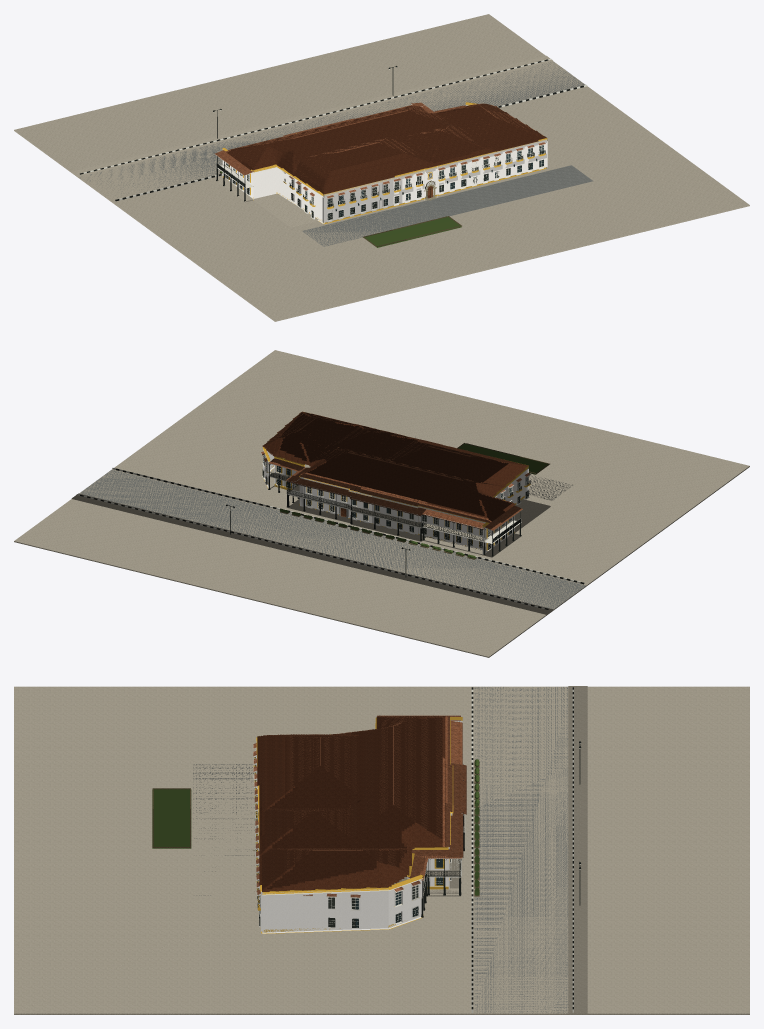
Rendered from Adil-Shah-Palace-Panaji.glb.
3 views of the same model, one above another, from view 1: azimuth 30°, elevation 25°; view 2: azimuth 150°, elevation 25°; view 3: azimuth 270°, elevation 25° (orthographic). The views are drawn at different scales.
Visible parts, largest first — view 1: Grounds — simplified context / Verandah stone paving, Main hipped roof — photo estimated ridges / Dark tiled eaves, Grounds — simplified context / Street context, City façade — nineteen balconies / Limewashed plaster, Mapped building shell / Limewashed plaster, Main hipped roof — photo estimated ridges / Weathered terrac, Grounds — simplified context / Context planting, City façade — nineteen balconies / Ochre painted surrounds, City façade — nineteen balconies / Ivory window joinery, Mapped building shell / Verandah stone paving, City façade — nineteen balconies / Historic dark cast iron, Grounds — simplified context / Dark curb paint (+3 smaller); view 2: Grounds — simplified context / Verandah stone paving, Grounds — simplified context / Street context, Main hipped roof — photo estimated ridges / Dark tiled eaves, Main hipped roof — photo estimated ridges / Weathered terrac, River verandah walls / Limewashed plaster, River verandah structure / Verandah stone paving, Verandah tiled roof / Weathered terracotta tiles, River verandah structure / Historic dark cast iron, Grounds — simplified context / Context planting, Grounds — simplified context / Dark curb paint, Grounds — simplified context / White curb paint, Mapped building shell / Limewashed plaster (+4 smaller); view 3: Grounds — simplified context / Verandah stone paving, Main hipped roof — photo estimated ridges / Dark tiled eaves, Grounds — simplified context / Street context, Mapped building shell / Limewashed plaster, Main hipped roof — photo estimated ridges / Weathered terrac, Grounds — simplified context / Context planting, Verandah tiled roof / Weathered terracotta tiles, Mapped building shell / Ochre painted surrounds, Grounds — simplified context / White curb paint, Grounds — simplified context / Dark curb paint.
Part boxes in pixels (left/top/right/bottom): Grounds — simplified context / Verandah stone paving: left=14, top=14, right=749, bottom=321; Main hipped roof — photo estimated ridges / Dark tiled eaves: left=226, top=104, right=546, bottom=194; Grounds — simplified context / Street context: left=80, top=62, right=593, bottom=246; City façade — nineteen balconies / Limewashed plaster: left=322, top=139, right=547, bottom=222; Mapped building shell / Limewashed plaster: left=222, top=104, right=547, bottom=223; Main hipped roof — photo estimated ridges / Weathered terrac: left=226, top=103, right=544, bottom=160; Grounds — simplified context / Context planting: left=220, top=171, right=461, bottom=247; City façade — nineteen balconies / Ochre painted surrounds: left=323, top=138, right=547, bottom=224; City façade — nineteen balconies / Ivory window joinery: left=327, top=144, right=545, bottom=220; Mapped building shell / Verandah stone paving: left=228, top=173, right=427, bottom=227; City façade — nineteen balconies / Historic dark cast iron: left=327, top=150, right=545, bottom=219; Grounds — simplified context / Dark curb paint: left=80, top=59, right=583, bottom=201; Grounds — simplified context / Verandah stone paving: left=14, top=350, right=749, bottom=657; Grounds — simplified context / Street context: left=79, top=470, right=585, bottom=609; Main hipped roof — photo estimated ridges / Dark tiled eaves: left=262, top=411, right=528, bottom=522; Main hipped roof — photo estimated ridges / Weathered terrac: left=267, top=412, right=519, bottom=522; River verandah walls / Limewashed plaster: left=300, top=477, right=488, bottom=550; River verandah structure / Verandah stone paving: left=288, top=493, right=487, bottom=555; Verandah tiled roof / Weathered terracotta tiles: left=287, top=476, right=484, bottom=528; River verandah structure / Historic dark cast iron: left=287, top=482, right=485, bottom=554; Grounds — simplified context / Context planting: left=279, top=443, right=548, bottom=558; Grounds — simplified context / Dark curb paint: left=80, top=468, right=584, bottom=609; Grounds — simplified context / White curb paint: left=76, top=468, right=580, bottom=608; Mapped building shell / Limewashed plaster: left=263, top=450, right=528, bottom=555; Grounds — simplified context / Verandah stone paving: left=14, top=686, right=749, bottom=1014; Main hipped roof — photo estimated ridges / Dark tiled eaves: left=257, top=716, right=451, bottom=891; Grounds — simplified context / Street context: left=193, top=687, right=568, bottom=1013; Mapped building shell / Limewashed plaster: left=262, top=720, right=462, bottom=933; Main hipped roof — photo estimated ridges / Weathered terrac: left=257, top=715, right=452, bottom=888; Grounds — simplified context / Context planting: left=152, top=759, right=479, bottom=895; Verandah tiled roof / Weathered terracotta tiles: left=447, top=721, right=466, bottom=857; Mapped building shell / Ochre painted surrounds: left=258, top=717, right=462, bottom=933; Grounds — simplified context / White curb paint: left=471, top=689, right=573, bottom=1013; Grounds — simplified context / Dark curb paint: left=471, top=687, right=573, bottom=1009.
Bounding box in the file's own units: 146 × 14.26 × 139.
22 materials, 17 textured.
